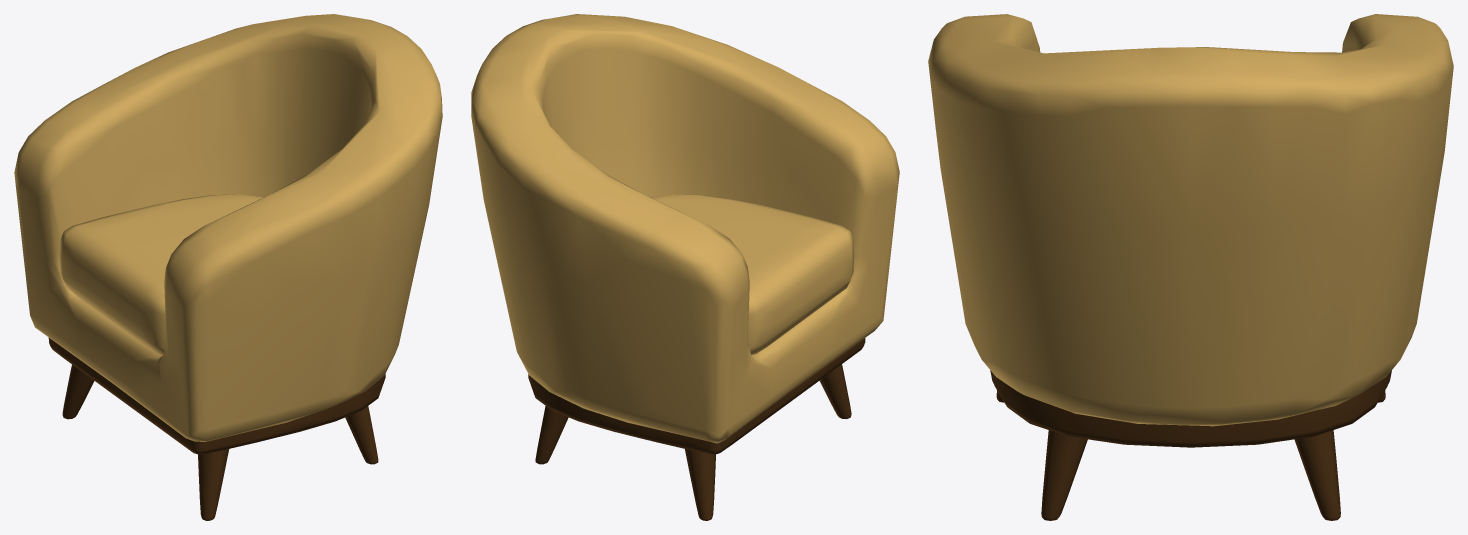
File: armchair_06_yellow.fbx
The picture shows the model from 3 angles, left to right: view 1: azimuth 30°, elevation 25°; view 2: azimuth 150°, elevation 25°; view 3: azimuth 270°, elevation 25°; orthographic projection. The views are drawn at different scales.
Visible parts, largest first — view 1: armchair_06_yellow; view 2: armchair_06_yellow; view 3: armchair_06_yellow.
Part boxes in pixels (x1,y1,x2,y2): armchair_06_yellow: (14,14,442,520); armchair_06_yellow: (471,14,899,520); armchair_06_yellow: (928,14,1453,520).
Bounding box in the file's own units: 105 × 120 × 114.
Materials: 2 (2 with a texture image).
